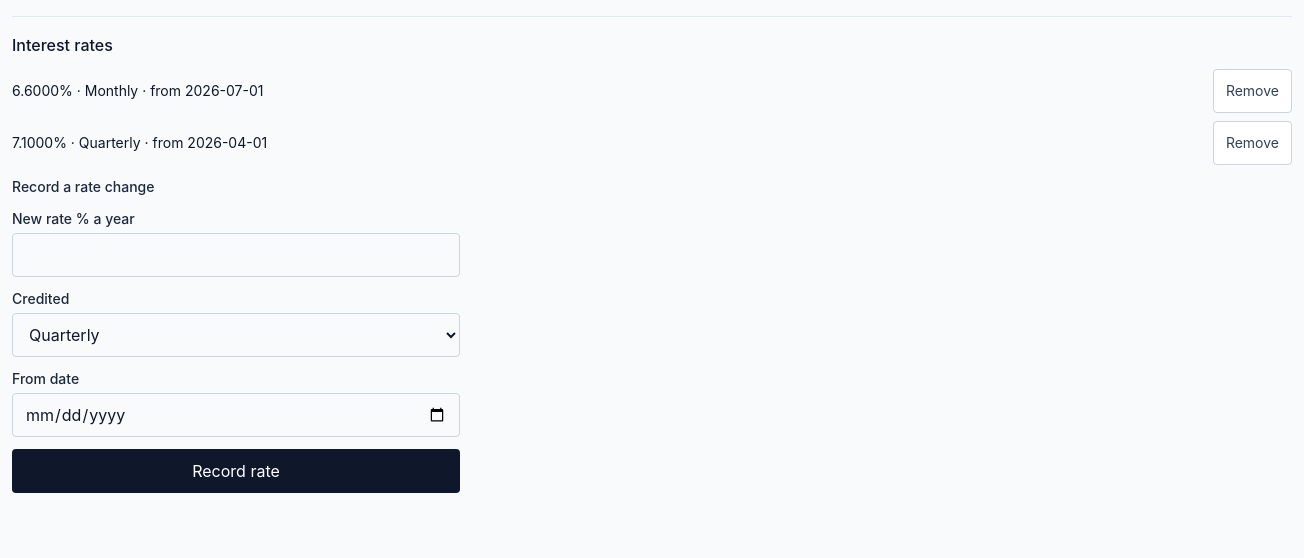
Test: RateHistory › refuses a rate with five decimals and sends nothing
Expected: the text "6.6000% · Monthly · from 2026-07-01" is shown, [12,81,264,101]
Type "7.12345" into the field labelled "New rate % a year". click: (236, 255)
box: [12,233,460,277]
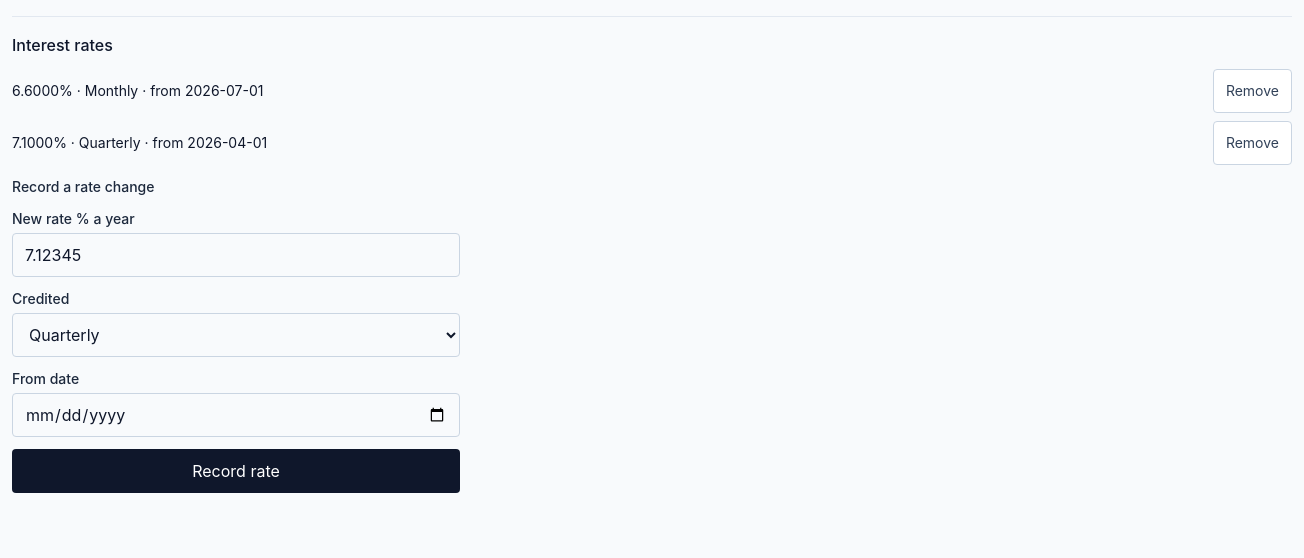
Type "2026-10-01" into the date field labelled "From date". click: (236, 415)
box: [12,393,460,437]
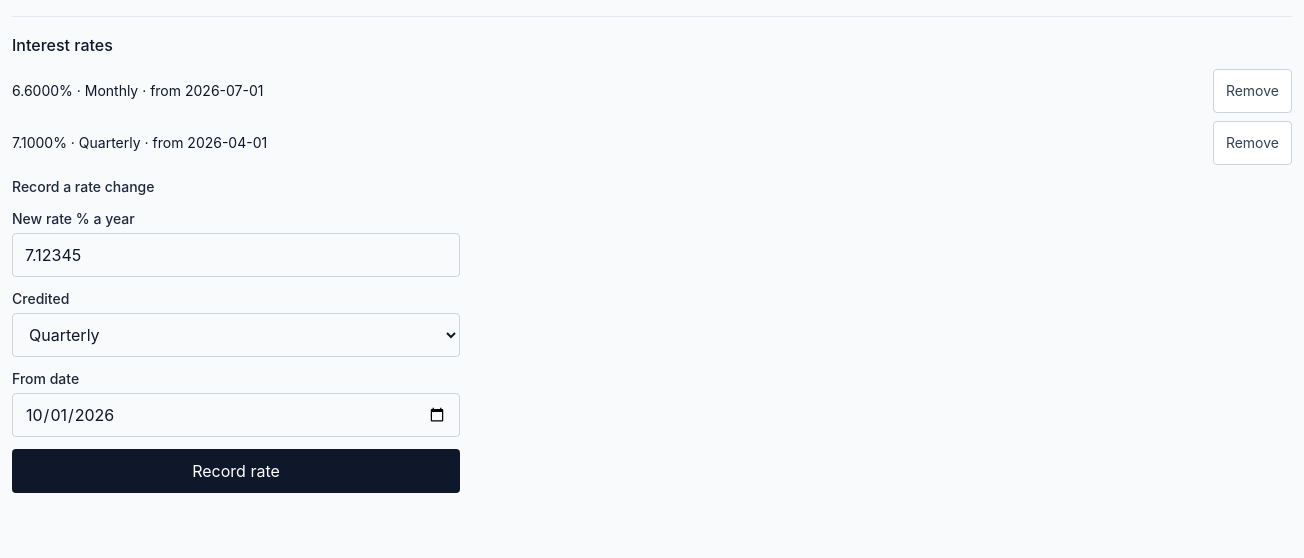
Click the button "Record rate". click: (236, 471)
box: [12,449,460,493]
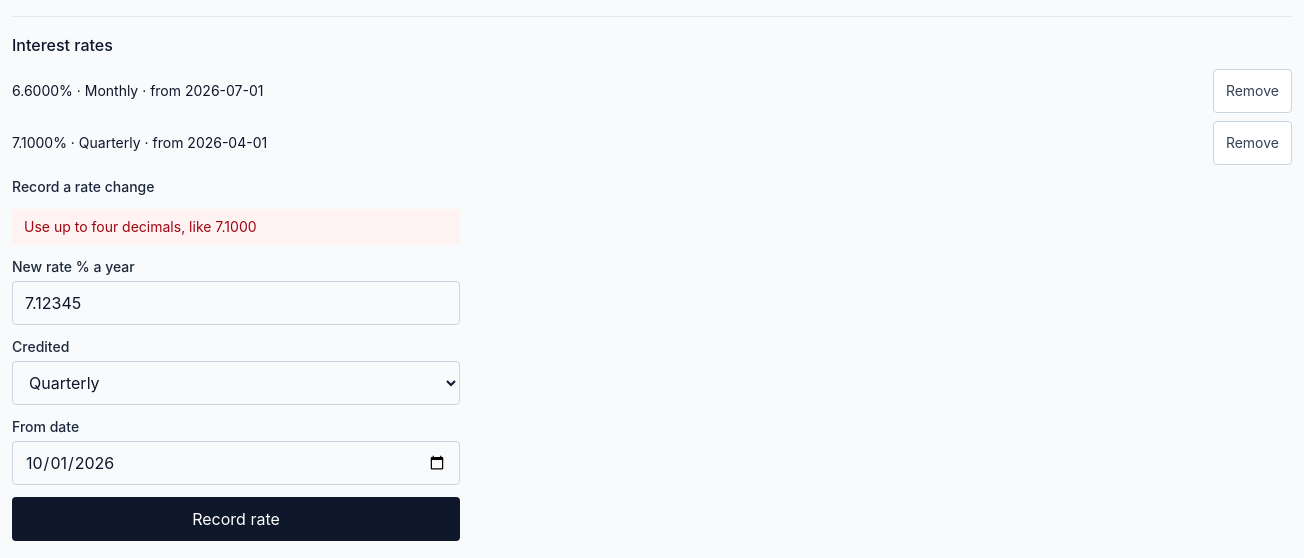
Now the text "Use up to four decimals, like 7.1000" is shown, box [12,209,460,245]
